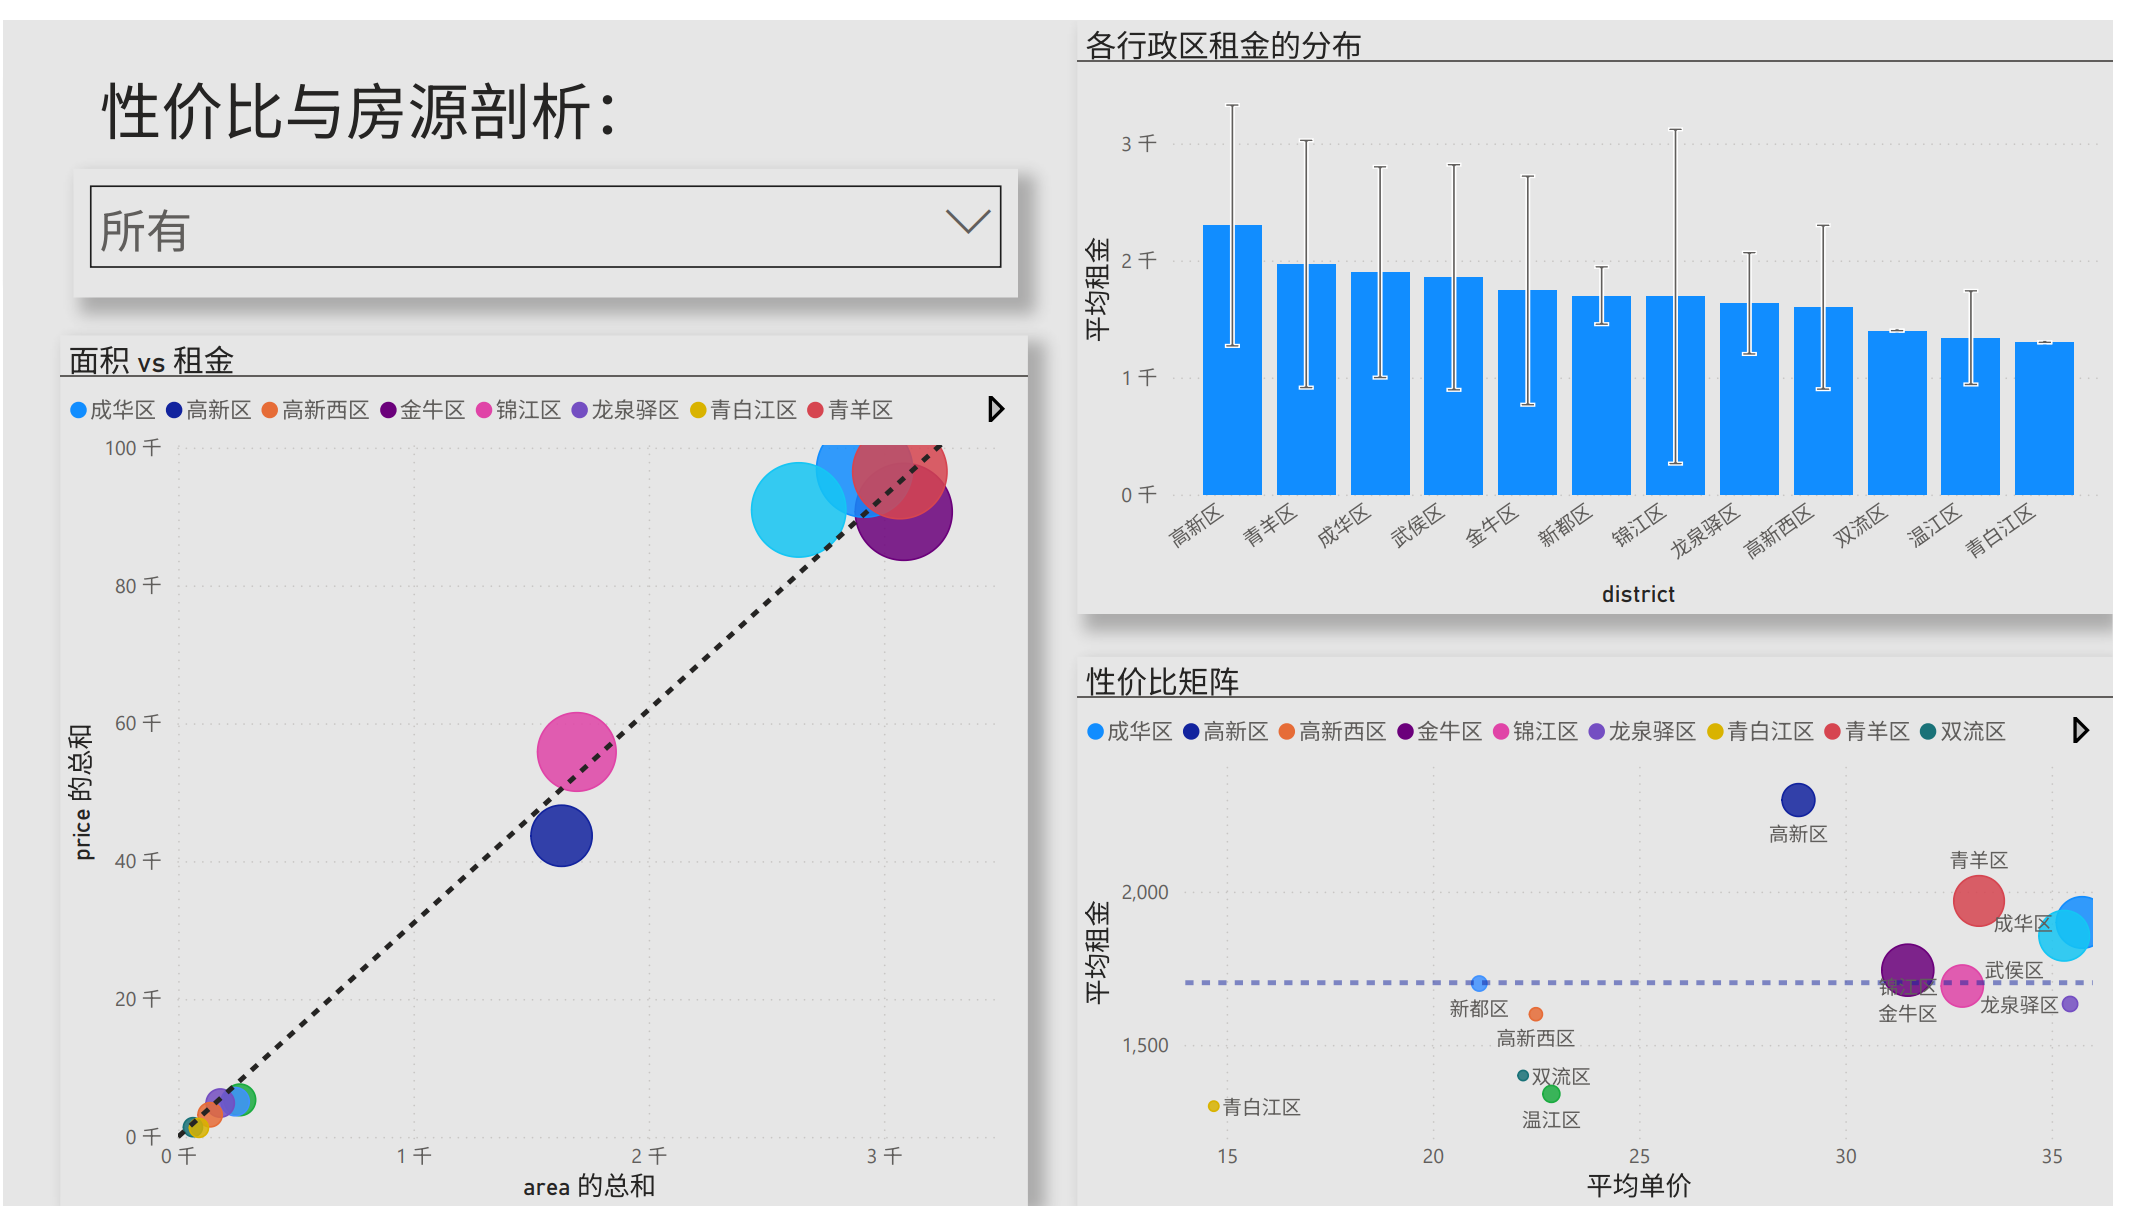

What the dashboard file says about the page in this screenshot:
{"tool":"powerbi","page":{"name":"第 2 页","canvas":[1280,720],"ordinal":1},"visuals":[{"type":"scatterChart","title":"面积 vs 租金","fields":{"X":["Sum(rental_chengdu clean_rent.area)"],"Y":["Sum(rental_chengdu clean_rent.price)"],"Series":["rental_chengdu clean_rent.district"],"Size":["rental_chengdu clean_rent.房源总数"]},"box":[35.2,191.4,586.4,528.2],"z":0},{"type":"columnChart","title":"各行政区租金的分布","fields":{"Category":["rental_chengdu clean_rent.district"],"Y":["rental_chengdu clean_rent.平均租金"]},"box":[652.2,0,627.8,359.8],"z":1000},{"type":"scatterChart","title":"性价比矩阵","fields":{"X":["rental_chengdu clean_rent.平均单价"],"Y":["rental_chengdu clean_rent.平均租金"],"Size":["rental_chengdu clean_rent.房源总数"],"Series":["rental_chengdu clean_rent.district"]},"box":[652.2,385.8,627.8,333.8],"z":2000},{"type":"slicer","fields":{"Values":["rental_chengdu district_summary.district"]},"box":[42.9,90.3,572.6,78.1],"z":3000},{"type":"textbox","box":[53.6,21.4,525.2,68.9],"z":4000}]}

Visuals, with their boxes in screenshot pixels (x1, y1, x2, y2), scaled from the page's 1280x720 canvas onto the 2130x1206 screenshot:
"面积 vs 租金" scatterChart: (left=59, top=321, right=1034, bottom=1205)
"各行政区租金的分布" columnChart: (left=1085, top=0, right=2129, bottom=603)
"性价比矩阵" scatterChart: (left=1085, top=646, right=2129, bottom=1205)
slicer - rental_chengdu district_summary.district: (left=71, top=151, right=1024, bottom=282)
textbox: (left=89, top=36, right=963, bottom=151)
